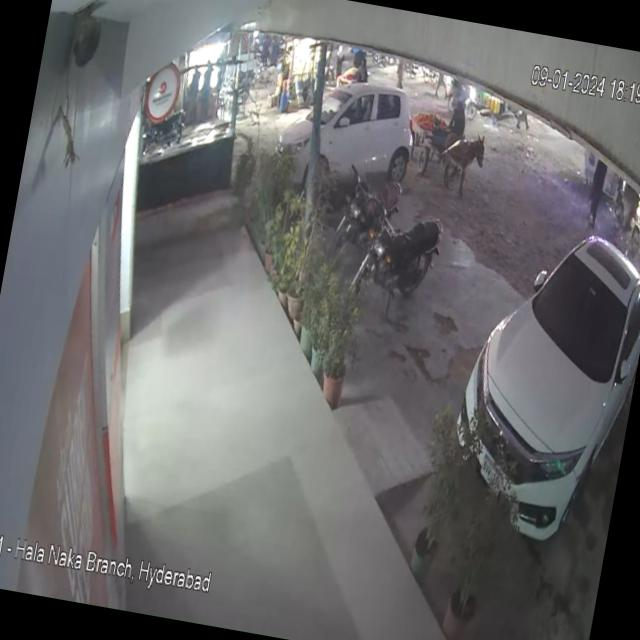Car: (435, 175, 640, 563), (252, 52, 428, 193)
Motorcycle: (338, 198, 449, 312), (333, 162, 410, 260)
